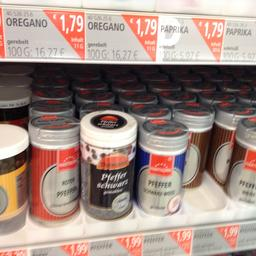spices: (77, 108, 136, 220), (28, 113, 78, 226), (138, 118, 186, 216)
